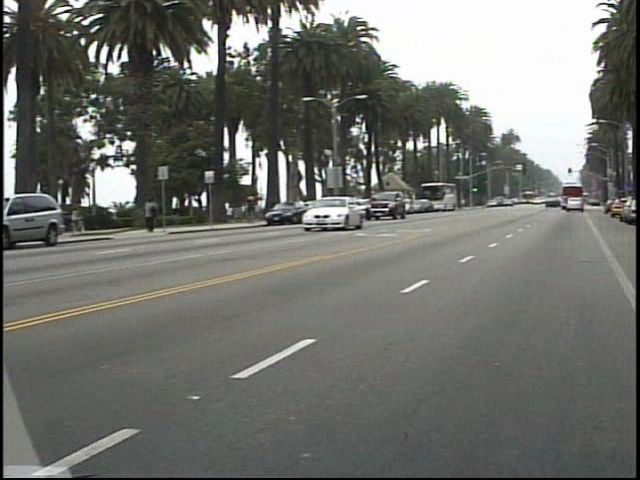person: (149, 194, 170, 235), (249, 189, 269, 224)
